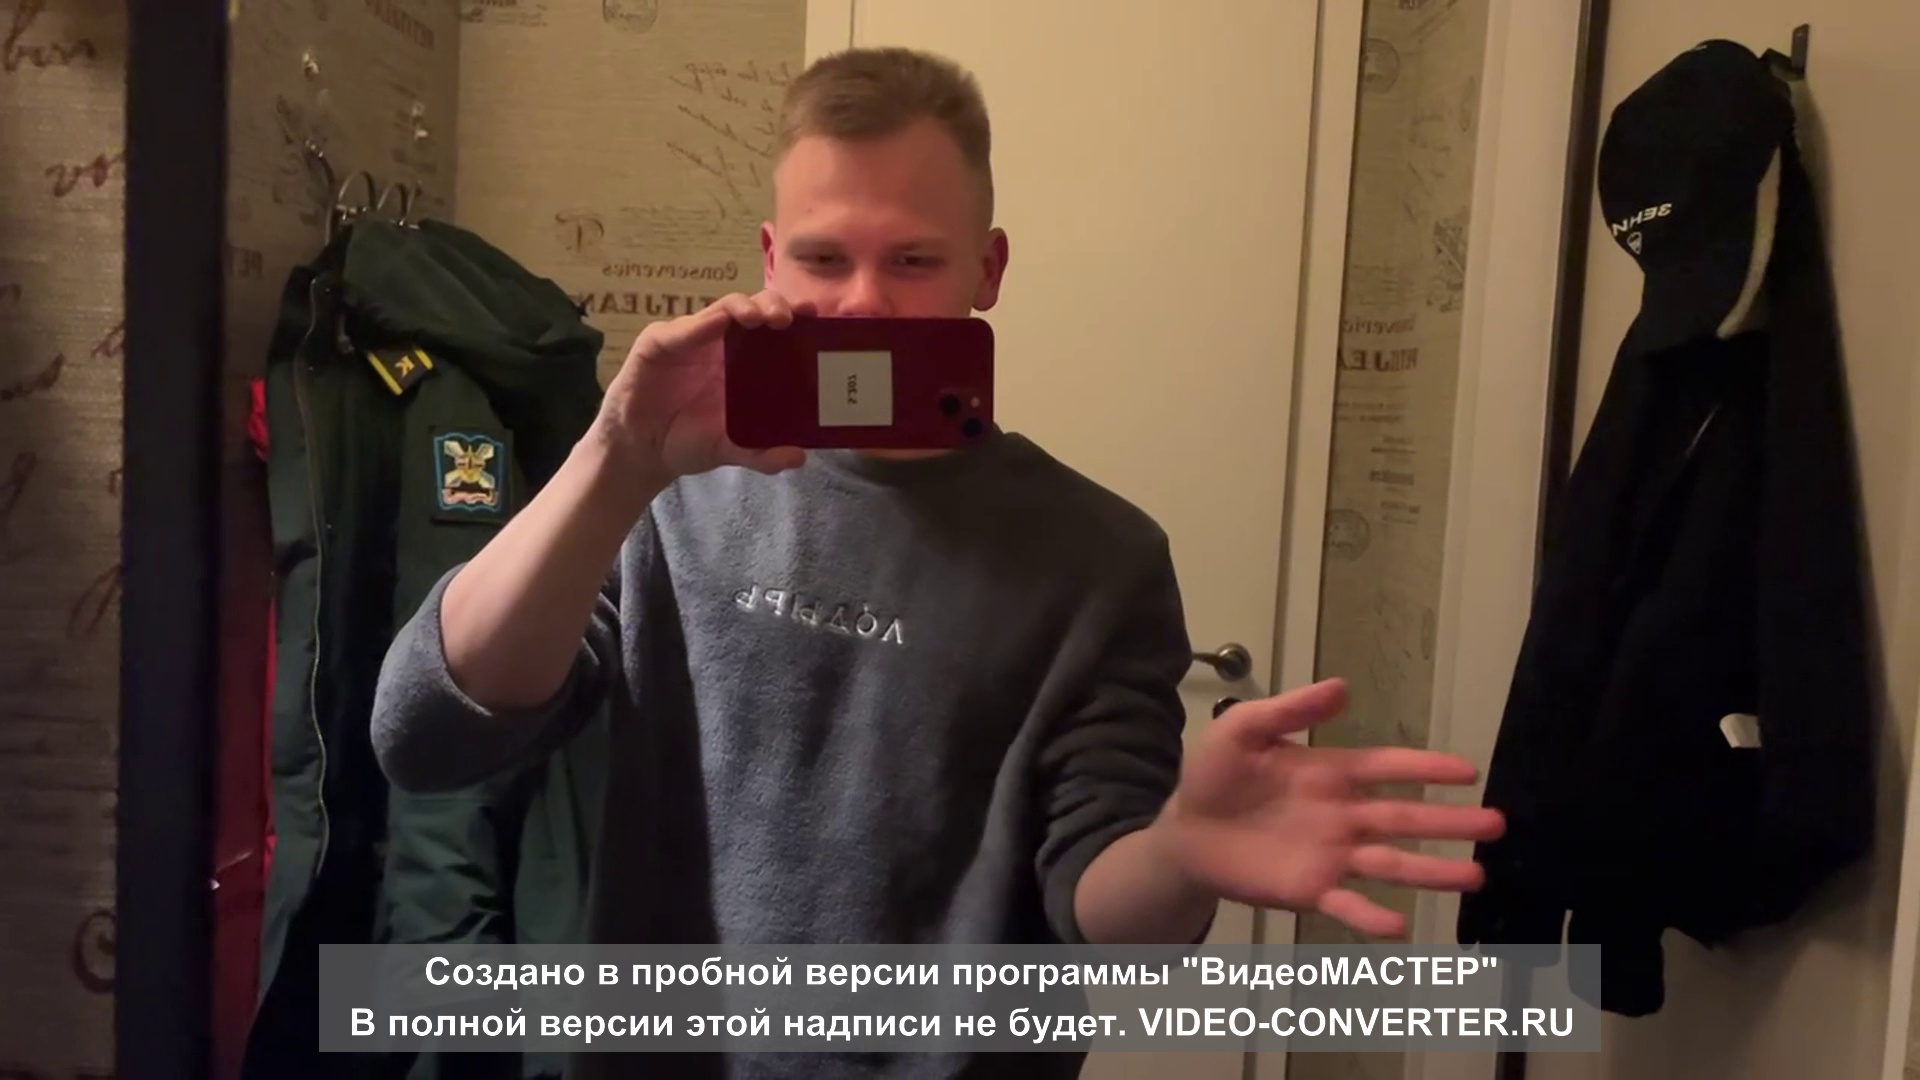Ладонь: (1187, 675, 1503, 940)
